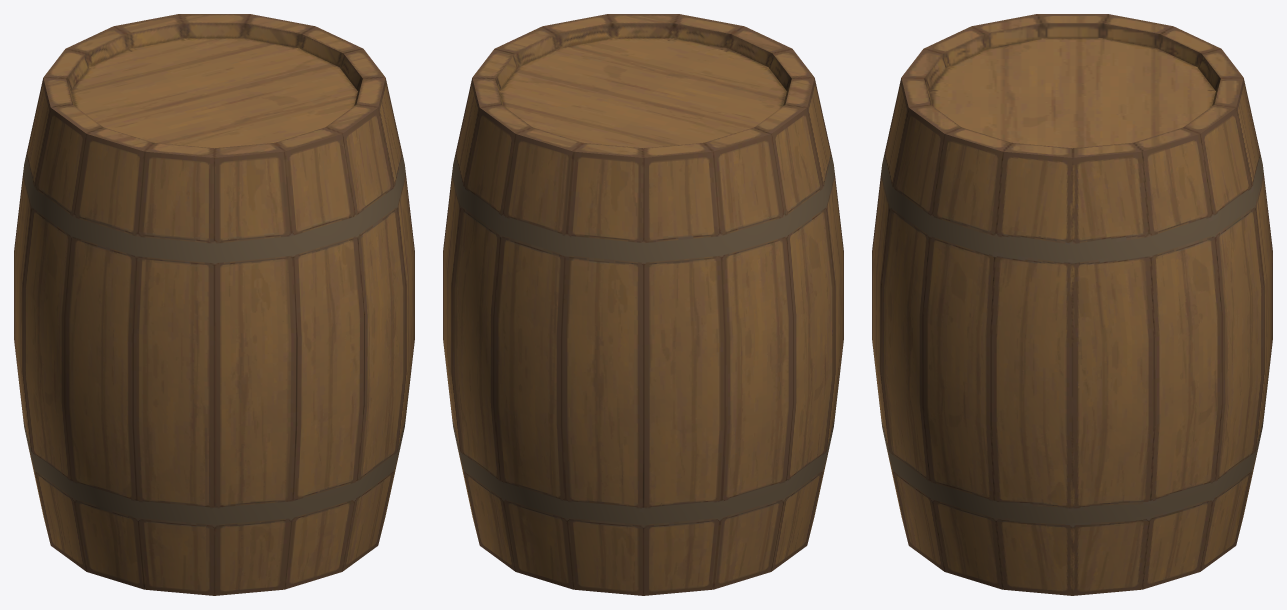
File: SM_wooden_barrel.glb
3 views of the same model, side by side, from view 1: azimuth 30°, elevation 25°; view 2: azimuth 150°, elevation 25°; view 3: azimuth 270°, elevation 25° (orthographic).
Visible parts, largest first — view 1: SM_wooden_barrel; view 2: SM_wooden_barrel; view 3: SM_wooden_barrel.
Boxes of the visible parts, x1,y1,x2,y2 form: SM_wooden_barrel: (14, 14, 414, 595); SM_wooden_barrel: (443, 14, 843, 595); SM_wooden_barrel: (872, 14, 1272, 595).
Size of the model in its own units: 0.8222 by 0.9966 by 0.8267.
Materials: 1 (1 with a texture image).
